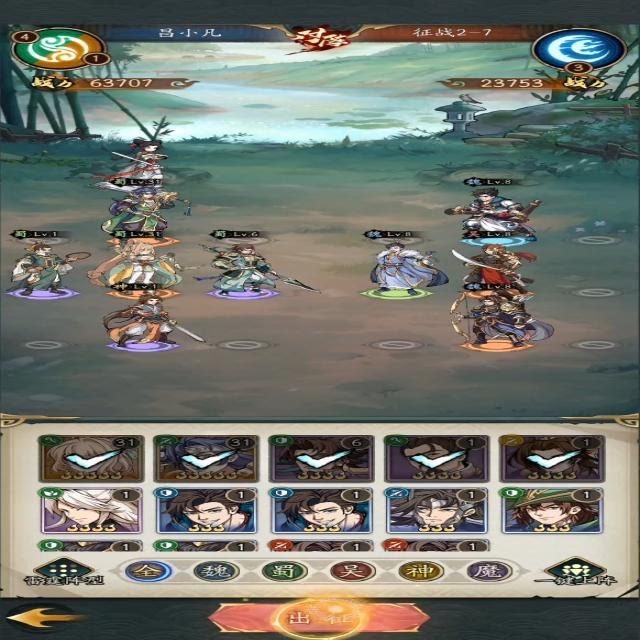hint-guide: (261, 588, 384, 640)
navigation-myHeroes: (492, 430, 612, 484), (33, 432, 147, 484), (148, 432, 261, 484), (148, 484, 259, 536), (497, 485, 610, 536), (381, 432, 493, 483), (266, 433, 380, 483), (380, 485, 493, 535), (34, 486, 147, 536), (265, 486, 376, 535)
operation-back: (5, 602, 93, 634)
operation-camp: (393, 558, 452, 586), (328, 558, 382, 583), (254, 558, 310, 582), (120, 560, 172, 585), (460, 557, 510, 582), (192, 560, 237, 583)
operation-confirm: (207, 602, 432, 634)
operation-deployment: (20, 556, 110, 588)
operation-oneKeyDeployment: (535, 555, 614, 589)
